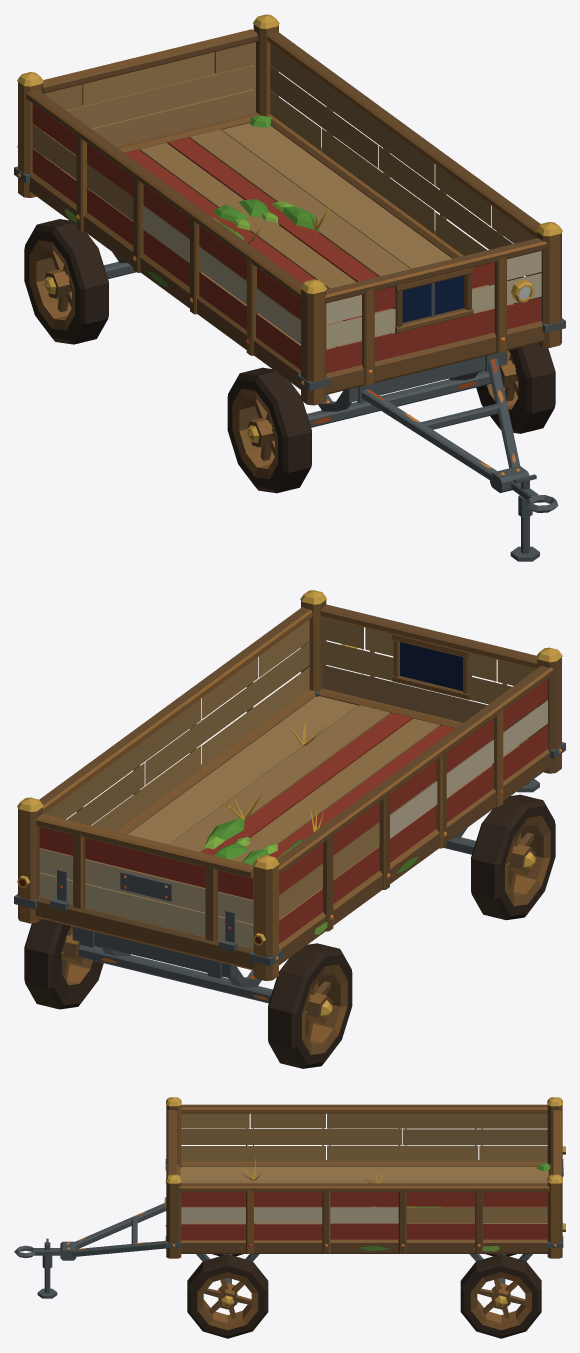
File: cargo-trailer-213847.glb
3 renders of one model, top to bottom at view 1: azimuth 30°, elevation 25°; view 2: azimuth 150°, elevation 25°; view 3: azimuth 270°, elevation 25°, orthographic. The views are drawn at different scales.
Visible parts, largest first — view 1: trailer-body, tailgate-mesh, wheel-fr-mesh, wheel-rr-mesh, wheel-fl-mesh; view 2: trailer-body, tailgate-mesh, wheel-rr-mesh, wheel-fr-mesh, wheel-rl-mesh; view 3: trailer-body, wheel-fl-mesh, wheel-rl-mesh, tailgate-mesh.
Part boxes in pixels (x1,y1,x2,y2): trailer-body: [14, 14, 565, 561]; tailgate-mesh: [43, 29, 258, 162]; wheel-fr-mesh: [227, 367, 311, 493]; wheel-rr-mesh: [24, 219, 108, 344]; wheel-fl-mesh: [476, 343, 555, 433]; trailer-body: [14, 590, 565, 1003]; tailgate-mesh: [36, 814, 253, 951]; wheel-rr-mesh: [268, 943, 352, 1068]; wheel-fr-mesh: [471, 794, 555, 920]; wheel-rl-mesh: [24, 919, 103, 1009]; trailer-body: [14, 1097, 565, 1298]; wheel-fl-mesh: [187, 1254, 268, 1338]; wheel-rl-mesh: [460, 1254, 541, 1338]; tailgate-mesh: [551, 1110, 563, 1223].
Bounding box in the file's own units: 2.25 × 1.77 × 5.57.
